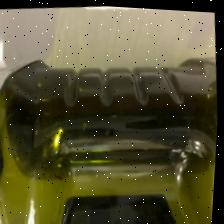plastic: (0, 42, 222, 224)
